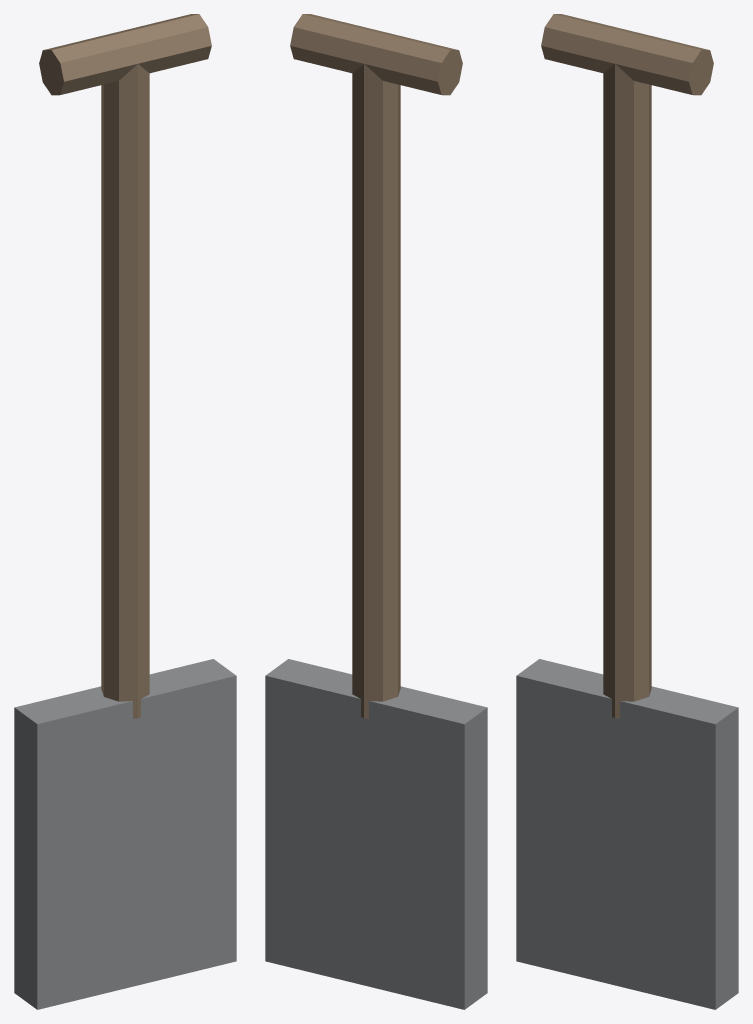
The model's file is schaufel.glb.
The picture shows the model from 3 angles, left to right: view 1: azimuth 30°, elevation 25°; view 2: azimuth 150°, elevation 25°; view 3: azimuth 330°, elevation 25°; orthographic projection.
Visible parts, largest first — view 1: schaufel_n2, schaufel_n1, schaufel_n3; view 2: schaufel_n2, schaufel_n1, schaufel_n3; view 3: schaufel_n2, schaufel_n1, schaufel_n3.
Boxes of the visible parts, x1,y1,x2,y2 form: schaufel_n2: (14,659,236,1009); schaufel_n1: (101,64,149,718); schaufel_n3: (39,14,211,95); schaufel_n2: (265,659,487,1009); schaufel_n1: (352,64,400,718); schaufel_n3: (290,14,462,95); schaufel_n2: (516,659,738,1009); schaufel_n1: (603,64,651,718); schaufel_n3: (541,14,713,95).
Bounding box in the file's own units: 0.35 × 1.59 × 0.076.
